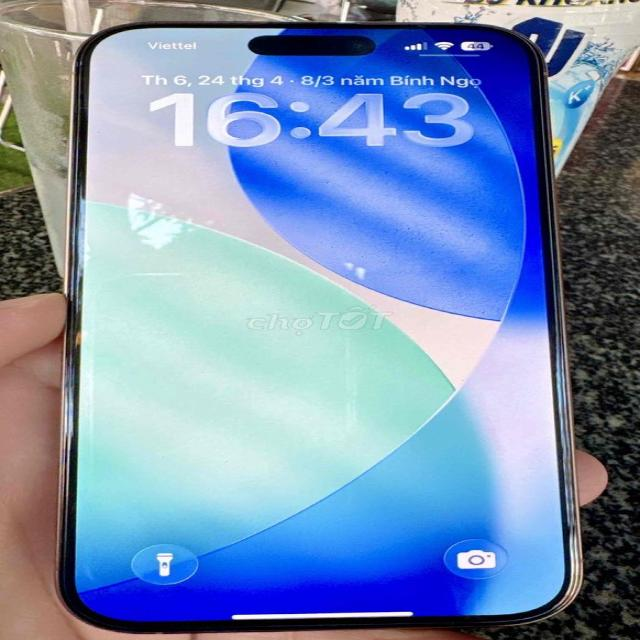gen_16: (58, 21, 577, 632)
